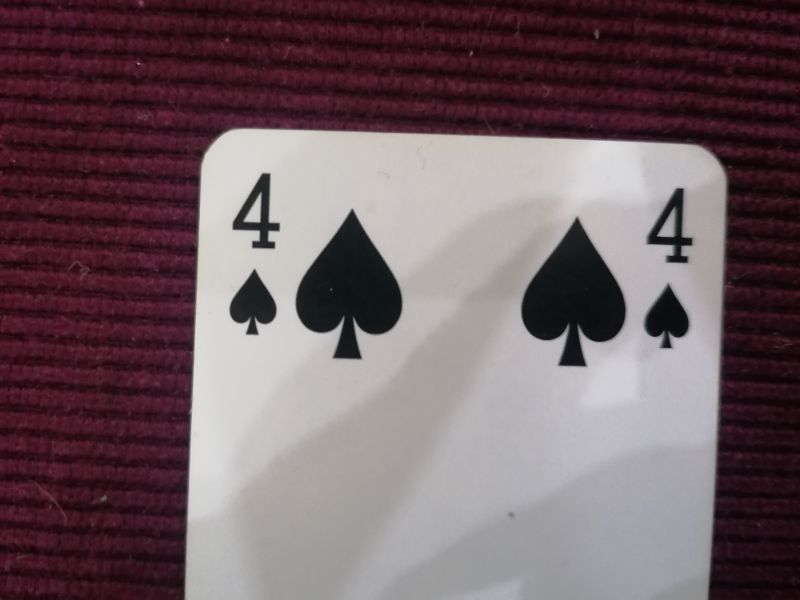4s: (220, 166, 287, 338), (634, 185, 697, 355)
